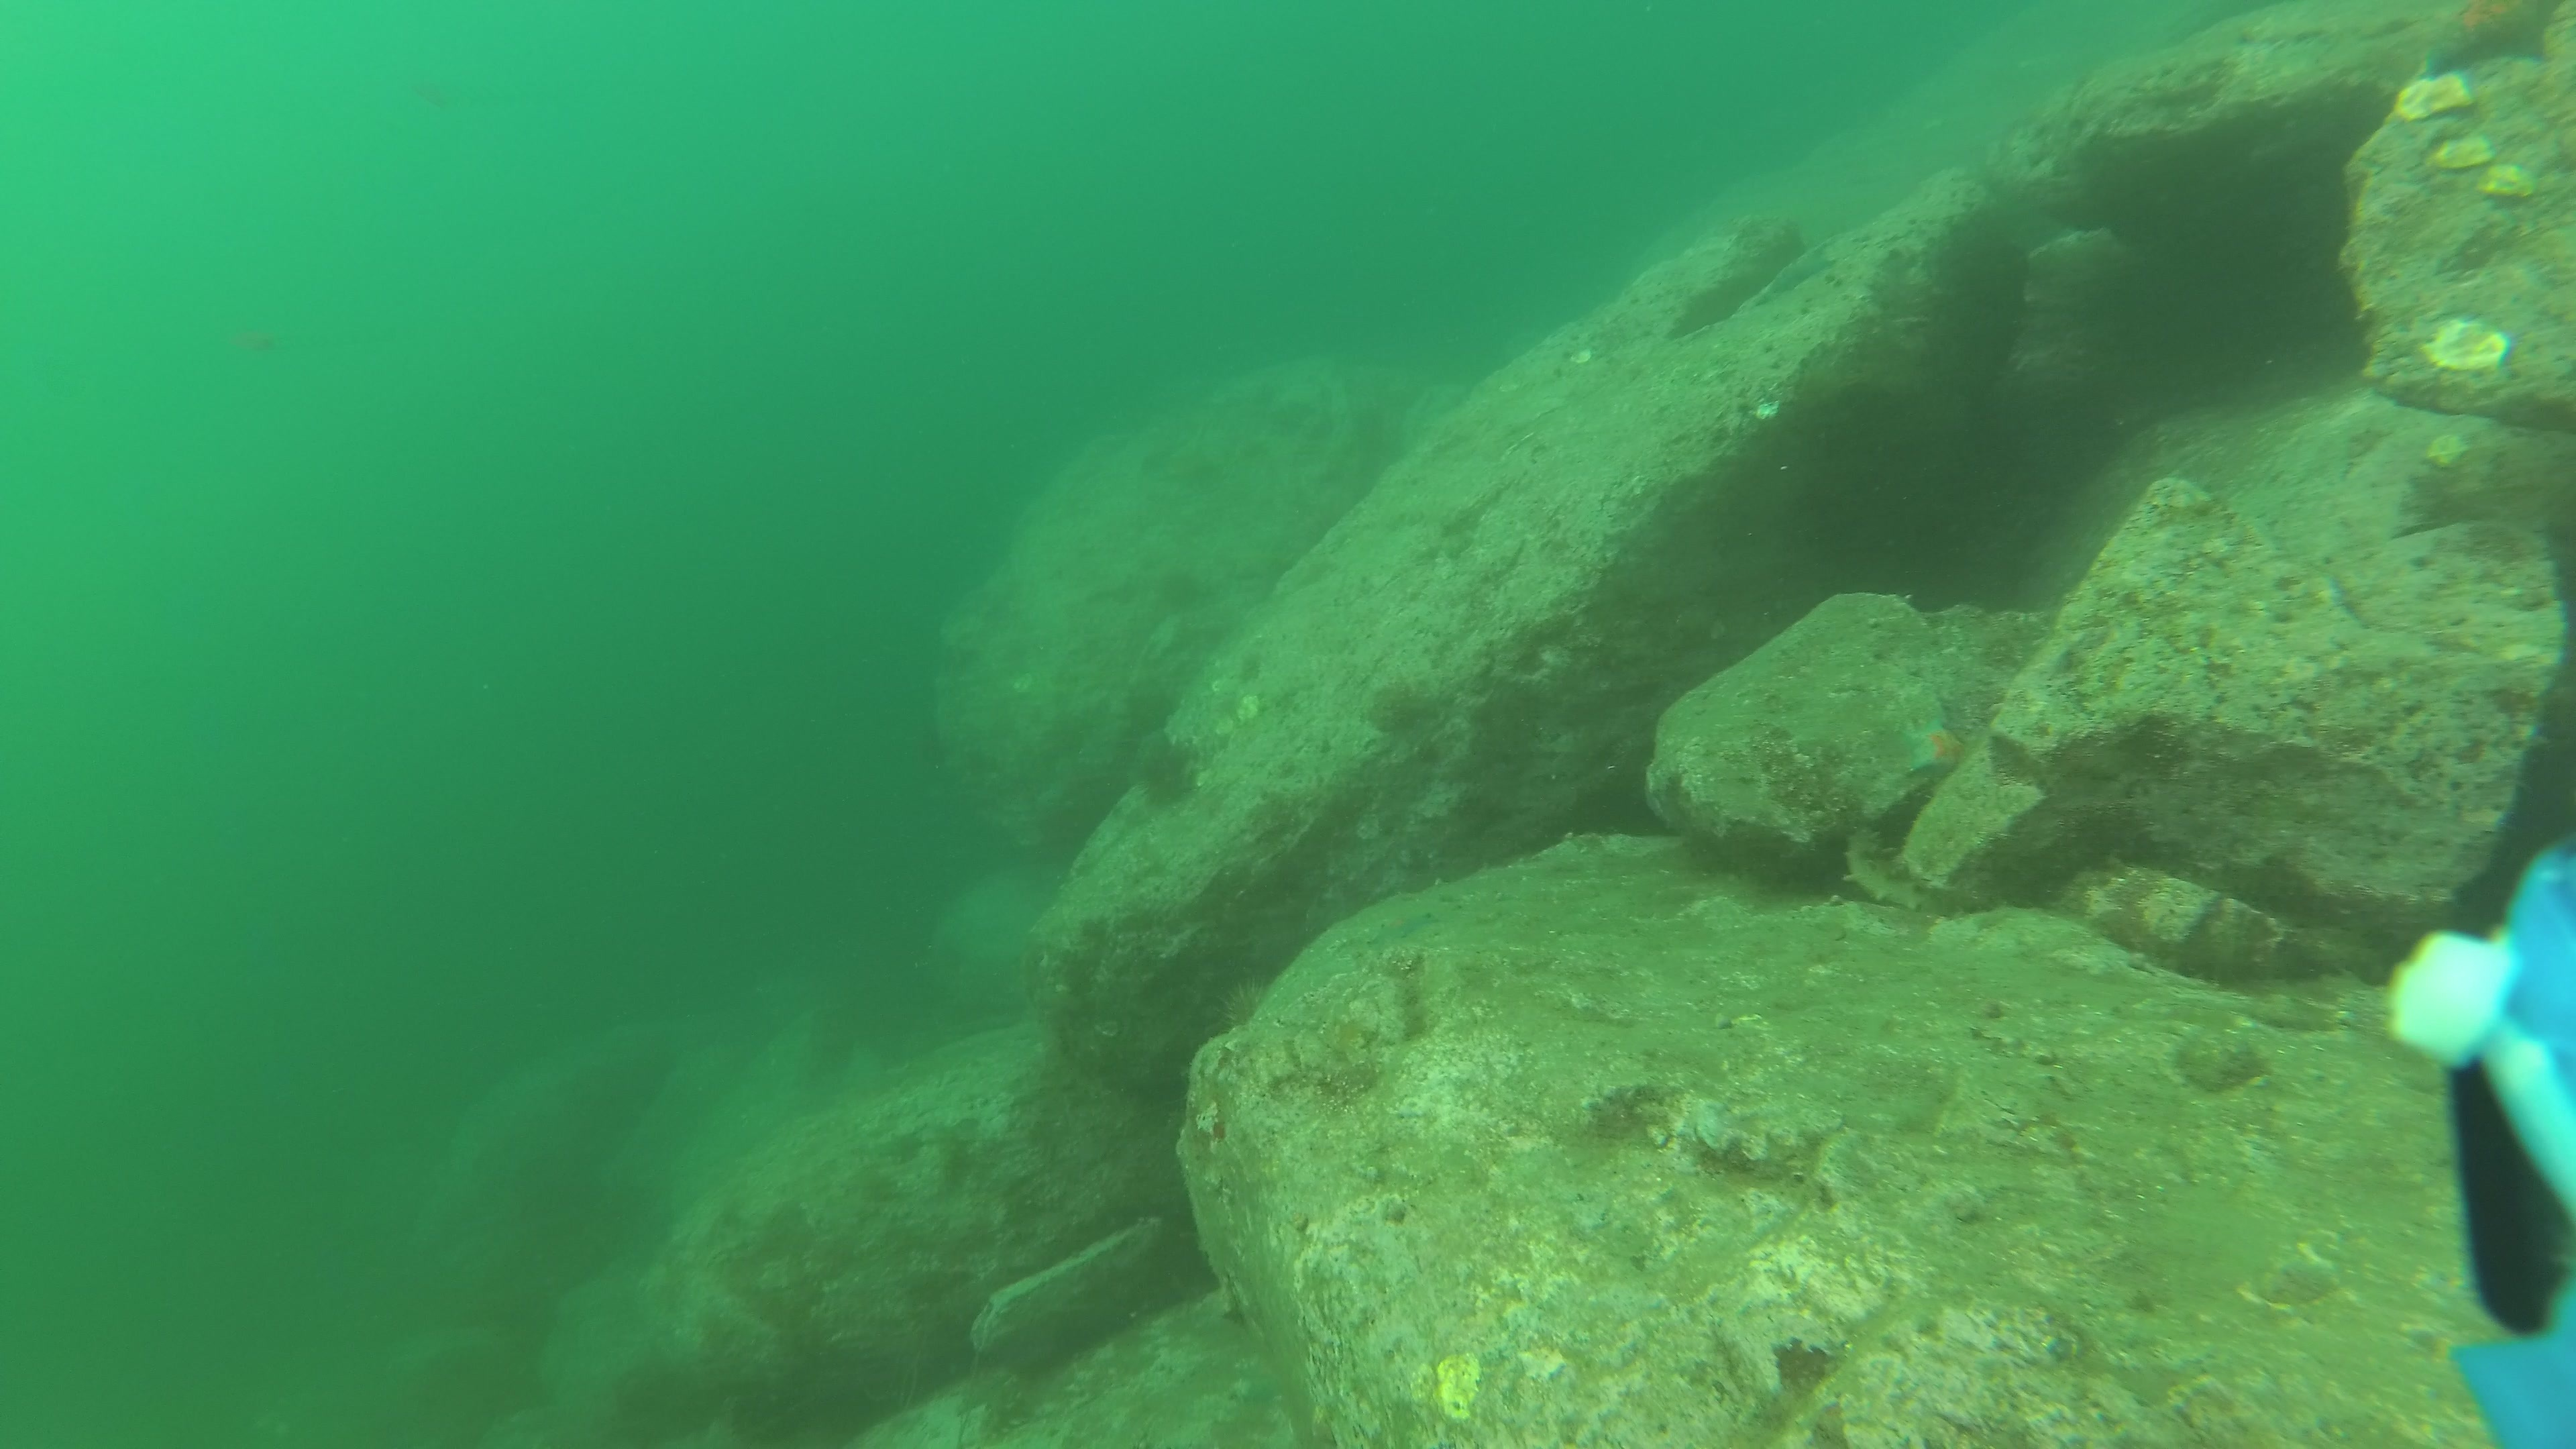echinus: (1214, 977, 1272, 1033)
holothurian: (1845, 830, 1973, 929)
starfish: (2401, 2, 2567, 83), (1755, 239, 1840, 310), (1895, 715, 1971, 782)
